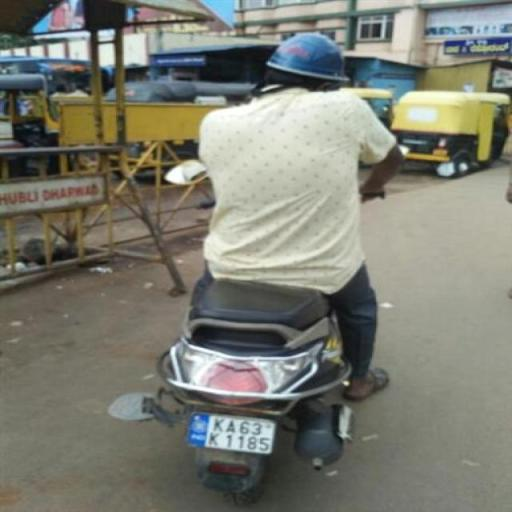numberplate: (184, 409, 277, 460)
using mobile: (314, 81, 354, 94)
